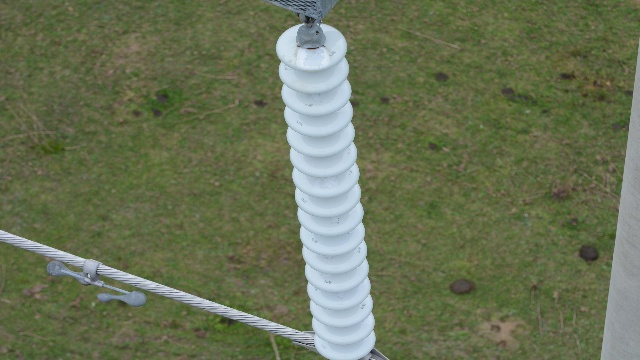insulator_unspecified: (275, 24, 373, 359)
pollution_flashover_local: (295, 46, 330, 71), (313, 175, 339, 192), (306, 92, 325, 103), (329, 215, 342, 227), (320, 272, 332, 282), (336, 290, 345, 300)
